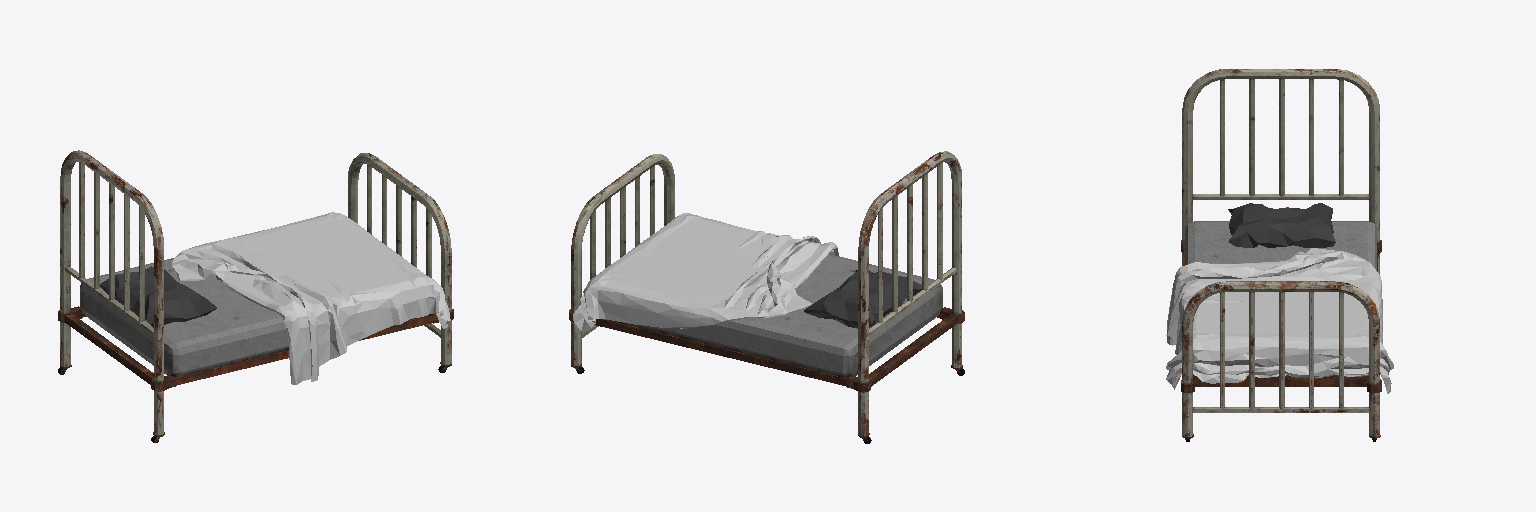
3 views of the same model, side by side, from view 1: azimuth 30°, elevation 25°; view 2: azimuth 150°, elevation 25°; view 3: azimuth 270°, elevation 25° (orthographic).
Parts seen in each view (by area): view 1: low_Pillow_1_bed_0, low_Pillow_1_lagen_0, low_Pillow_1_pillow_0; view 2: low_Pillow_1_bed_0, low_Pillow_1_lagen_0, low_Pillow_1_pillow_0; view 3: low_Pillow_1_bed_0, low_Pillow_1_lagen_0, low_Pillow_1_pillow_0.
Part boxes in pixels (bbox=[...]): low_Pillow_1_bed_0: bbox=[58, 150, 453, 442]; low_Pillow_1_lagen_0: bbox=[172, 212, 450, 384]; low_Pillow_1_pillow_0: bbox=[100, 266, 216, 327]; low_Pillow_1_bed_0: bbox=[569, 151, 964, 443]; low_Pillow_1_lagen_0: bbox=[573, 213, 838, 332]; low_Pillow_1_pillow_0: bbox=[804, 270, 921, 328]; low_Pillow_1_bed_0: bbox=[1181, 69, 1381, 441]; low_Pillow_1_lagen_0: bbox=[1166, 248, 1393, 393]; low_Pillow_1_pillow_0: bbox=[1228, 203, 1335, 247].
Size of the model in its own units: 187 by 139 by 123.
3 materials, 1 textured.